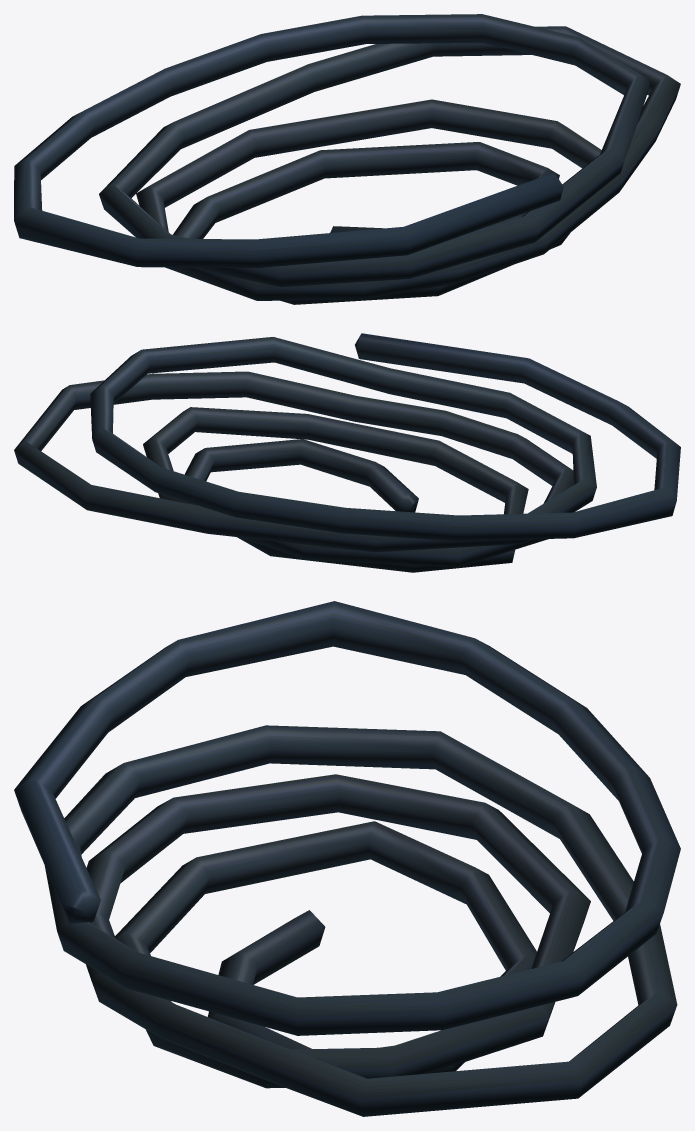
The model's file is QiCheXiuLiChang_01_dianxian_01.FBX.
3 renders of one model, top to bottom at view 1: azimuth 30°, elevation 25°; view 2: azimuth 150°, elevation 25°; view 3: azimuth 270°, elevation 25°, orthographic. The views are drawn at different scales.
Visible parts, largest first — view 1: QiCheXiuLiChang_01_dianxian_01; view 2: QiCheXiuLiChang_01_dianxian_01; view 3: QiCheXiuLiChang_01_dianxian_01.
Boxes of the visible parts, x1,y1,x2,y2 form: QiCheXiuLiChang_01_dianxian_01: (14,14,680,304); QiCheXiuLiChang_01_dianxian_01: (14,333,680,572); QiCheXiuLiChang_01_dianxian_01: (14,601,680,1116).
Bounding box in the file's own units: 472 × 73.37 × 299.
